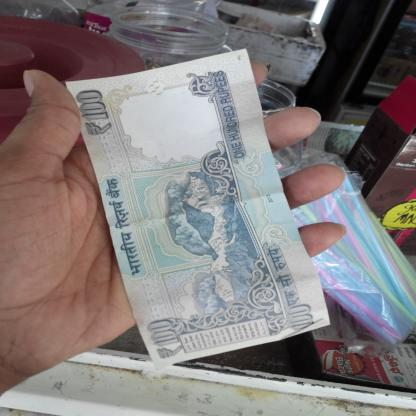Old100Back: (64, 47, 333, 368)
